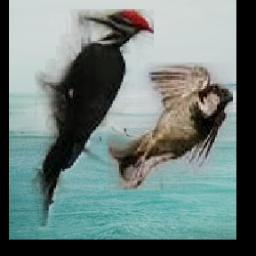Sparrow: (108, 63, 234, 191)
Woodpecker: (22, 9, 155, 226)
